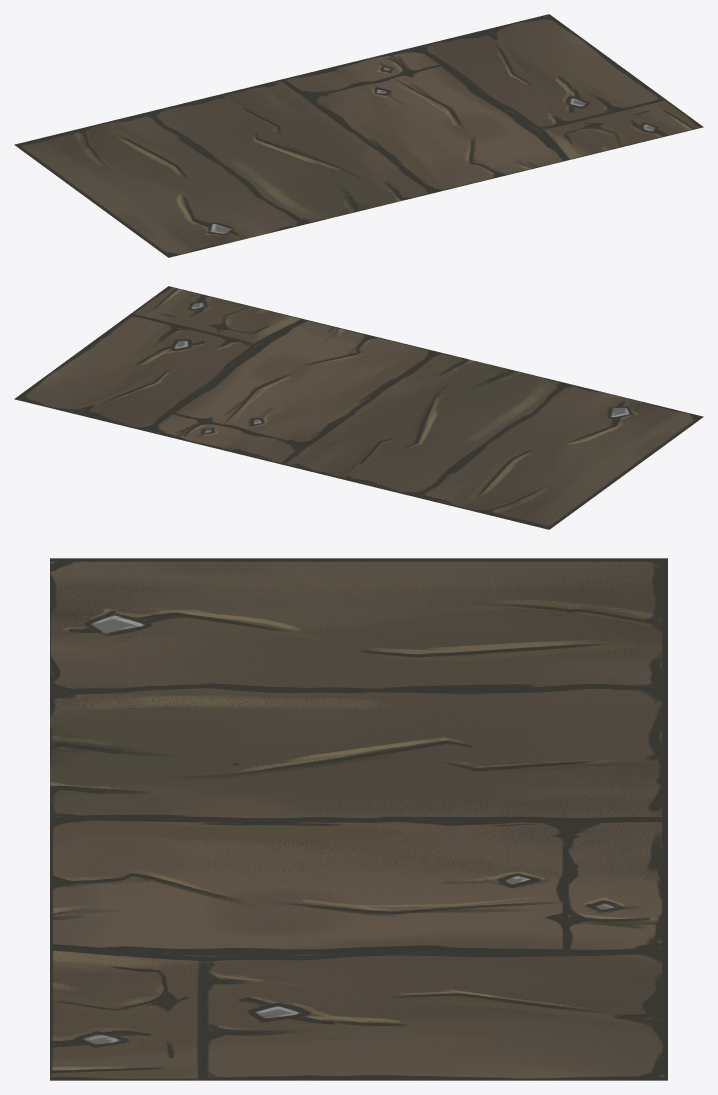
The model's file is polysurface580_txt_sol1_0_lev1_lev3_lev2.glb.
The picture shows the model from 3 angles, top to bottom: view 1: azimuth 30°, elevation 25°; view 2: azimuth 150°, elevation 25°; view 3: azimuth 270°, elevation 25°; orthographic projection. The views are drawn at different scales.
Visible parts, largest first — view 1: polysurface580_txt_sol1_0_lev1_lev3_lev2; view 2: polysurface580_txt_sol1_0_lev1_lev3_lev2; view 3: polysurface580_txt_sol1_0_lev1_lev3_lev2.
Part boxes in pixels (x1=…): polysurface580_txt_sol1_0_lev1_lev3_lev2: x1=14, y1=14, x2=703, y2=257; polysurface580_txt_sol1_0_lev1_lev3_lev2: x1=14, y1=286, x2=703, y2=529; polysurface580_txt_sol1_0_lev1_lev3_lev2: x1=50, y1=558, x2=667, y2=1080.
Size of the model in its own units: 20 by 0 by 10.
Materials: 1 (1 with a texture image).
